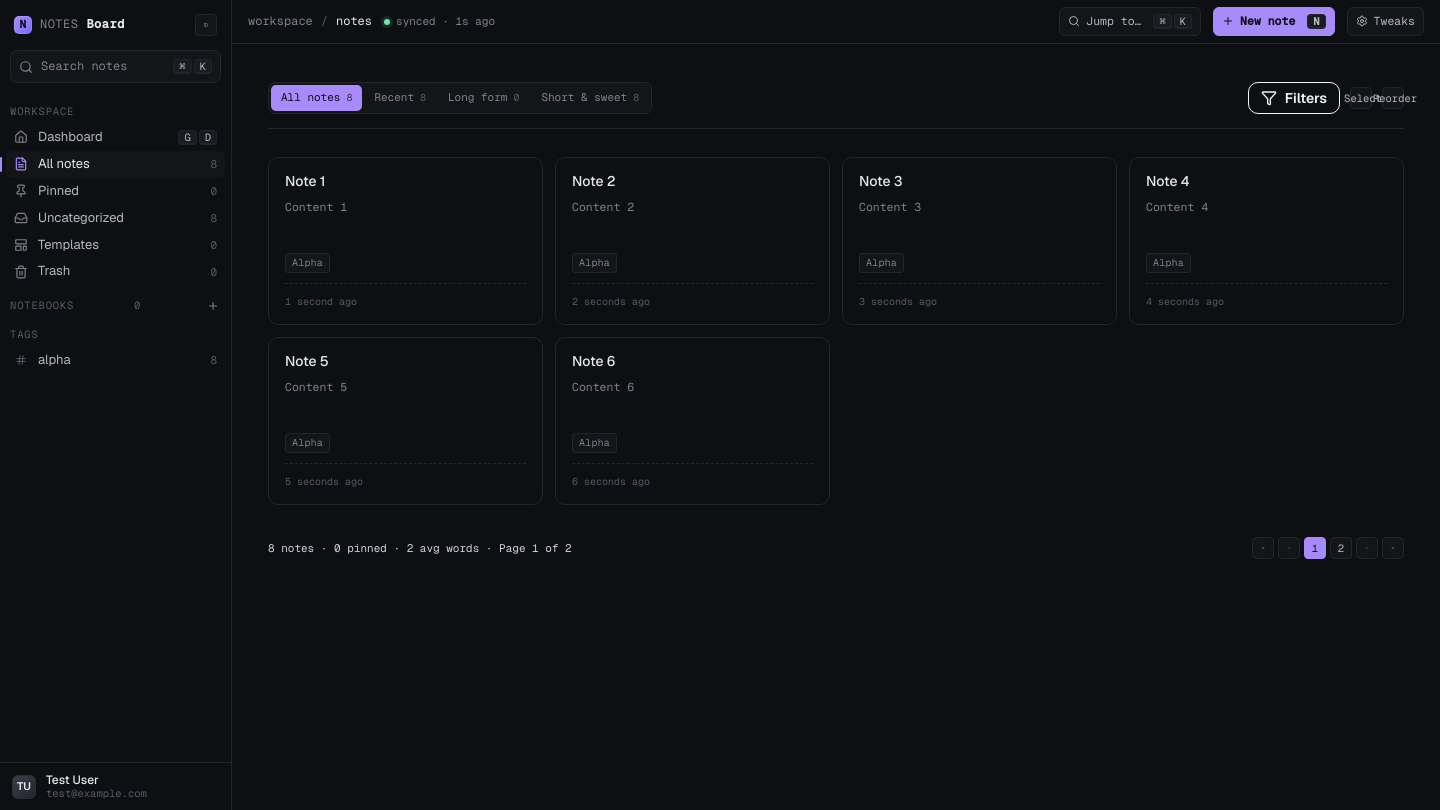
Test case: HomePage › filters by search and paginates note results
This screenshot has width=1440, height=810.
Click the button "2": click(1341, 548) top-left (1330, 537), bottom-right (1352, 559)
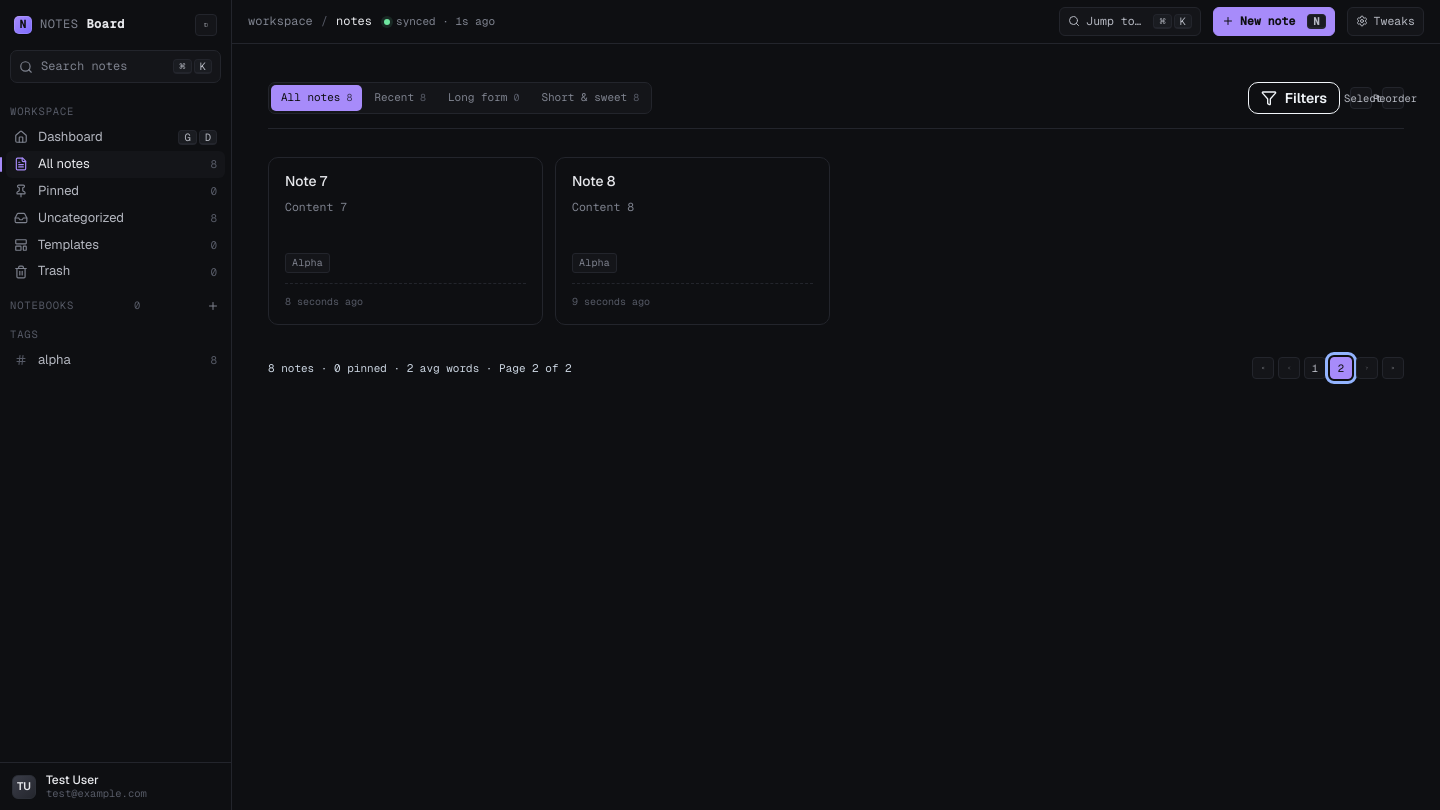
Now the heading "Note 7" is shown, box top-left (285, 172), bottom-right (327, 190)
